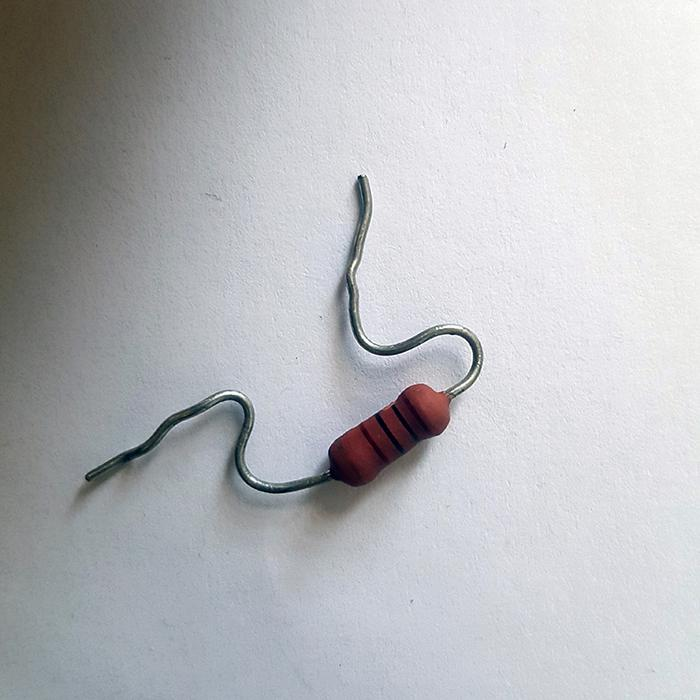resistor: (324, 380, 455, 488)
